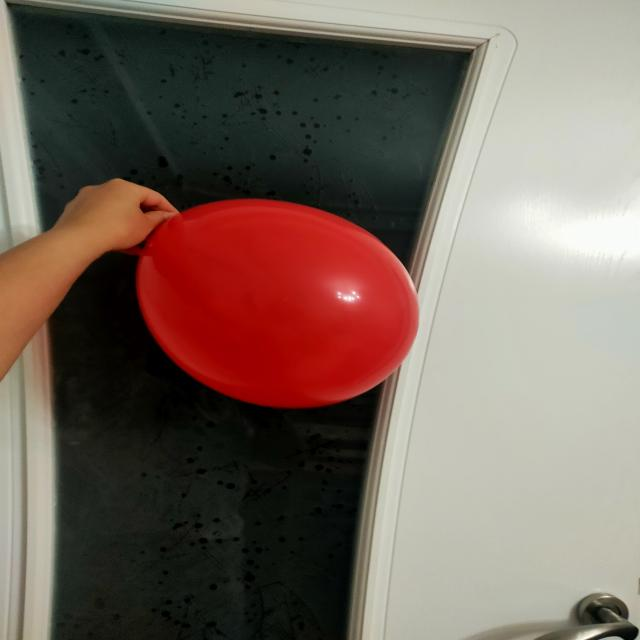red: (141, 199, 421, 412)
